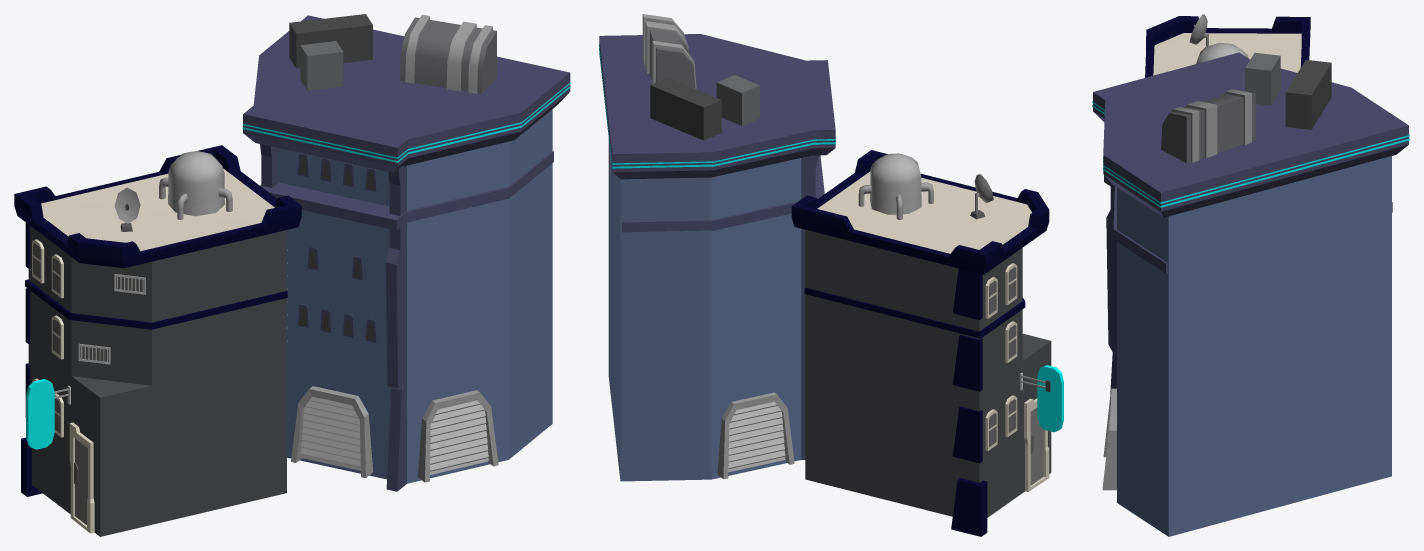
Rendered from Lower_Plaza_Front_Buildings.fbx.
3 renders of one model, left to right at view 1: azimuth 30°, elevation 25°; view 2: azimuth 150°, elevation 25°; view 3: azimuth 270°, elevation 25°, orthographic. The views are drawn at different scales.
Parts seen in each view (by area): view 1: Lower_Plaza_Front_Building; view 2: Lower_Plaza_Front_Building; view 3: Lower_Plaza_Front_Building.
Boxes of the visible parts, x1,y1,x2,y2 form: Lower_Plaza_Front_Building: (14, 14, 570, 536); Lower_Plaza_Front_Building: (599, 14, 1063, 536); Lower_Plaza_Front_Building: (1092, 14, 1409, 536).
Bounding box in the file's own units: 63.17 × 47.66 × 33.64.
